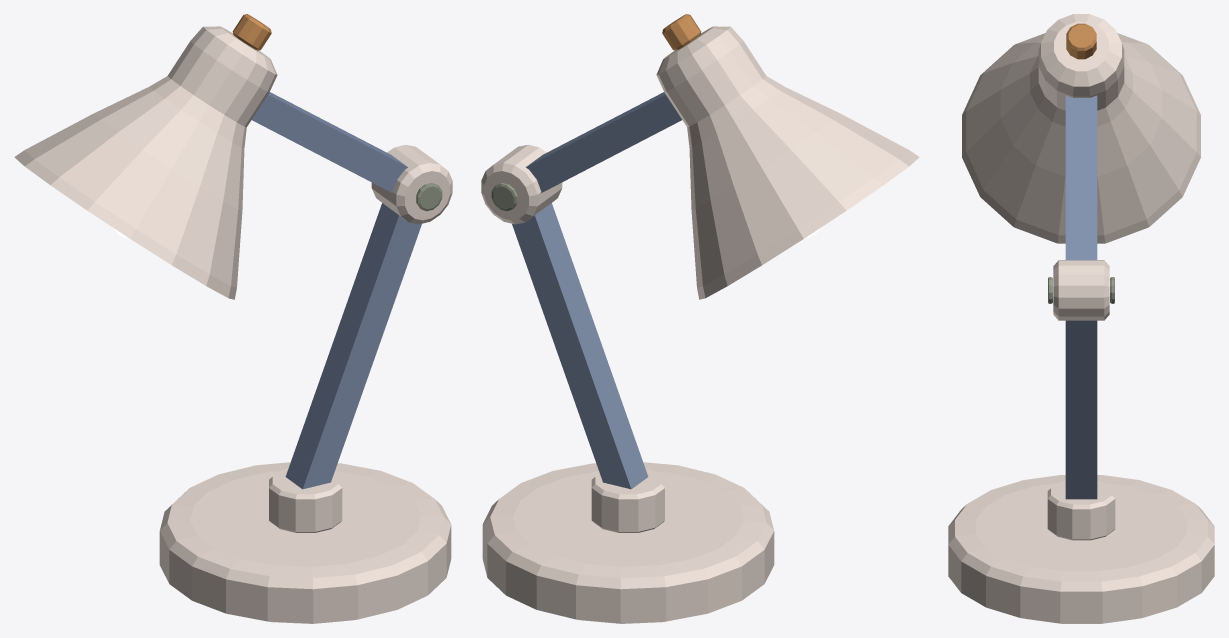
File: desk-lamp.glb
The picture shows the model from 3 angles, left to right: view 1: azimuth 30°, elevation 25°; view 2: azimuth 150°, elevation 25°; view 3: azimuth 270°, elevation 25°; orthographic projection. The views are drawn at different scales.
Visible parts, largest first — view 1: 08 灯罩 · 内外双层, 01 圆形底座, 03 下折臂, 04 上折臂, 02 底座连接座, 05 肘部转轴, 09 灯头尾钮, 06 前侧灰绿轴钉; view 2: 08 灯罩 · 内外双层, 01 圆形底座, 03 下折臂, 04 上折臂, 02 底座连接座, 05 肘部转轴, 09 灯头尾钮, 07 后侧轴钉; view 3: 08 灯罩 · 内外双层, 01 圆形底座, 03 下折臂, 04 上折臂, 05 肘部转轴, 02 底座连接座, 09 灯头尾钮.
Boxes of the visible parts, <box> form: 08 灯罩 · 内外双层: <box>14,26,277,299</box>; 01 圆形底座: <box>159,462,451,623</box>; 03 下折臂: <box>285,203,421,489</box>; 04 上折臂: <box>252,92,407,192</box>; 02 底座连接座: <box>269,468,342,532</box>; 05 肘部转轴: <box>371,144,452,224</box>; 09 灯头尾钮: <box>232,14,271,50</box>; 06 前侧灰绿轴钉: <box>416,183,442,211</box>; 08 灯罩 · 内外双层: <box>656,26,919,299</box>; 01 圆形底座: <box>482,462,774,623</box>; 03 下折臂: <box>512,203,648,489</box>; 04 上折臂: <box>526,92,681,192</box>; 02 底座连接座: <box>591,468,664,532</box>; 05 肘部转轴: <box>481,144,562,224</box>; 09 灯头尾钮: <box>662,14,701,50</box>; 07 后侧轴钉: <box>491,183,517,211</box>; 08 灯罩 · 内外双层: <box>962,14,1200,243</box>; 01 圆形底座: <box>948,475,1214,623</box>; 03 下折臂: <box>1065,320,1097,499</box>; 04 上折臂: <box>1065,95,1097,260</box>; 05 肘部转轴: <box>1053,260,1109,320</box>; 02 底座连接座: <box>1047,481,1115,540</box>; 09 灯头尾钮: <box>1066,23,1096,59</box>.
Bounding box in the file's own units: 2.45 × 3.29 × 1.52.
